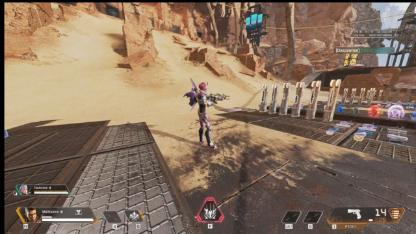Target: (190, 77, 218, 151)
